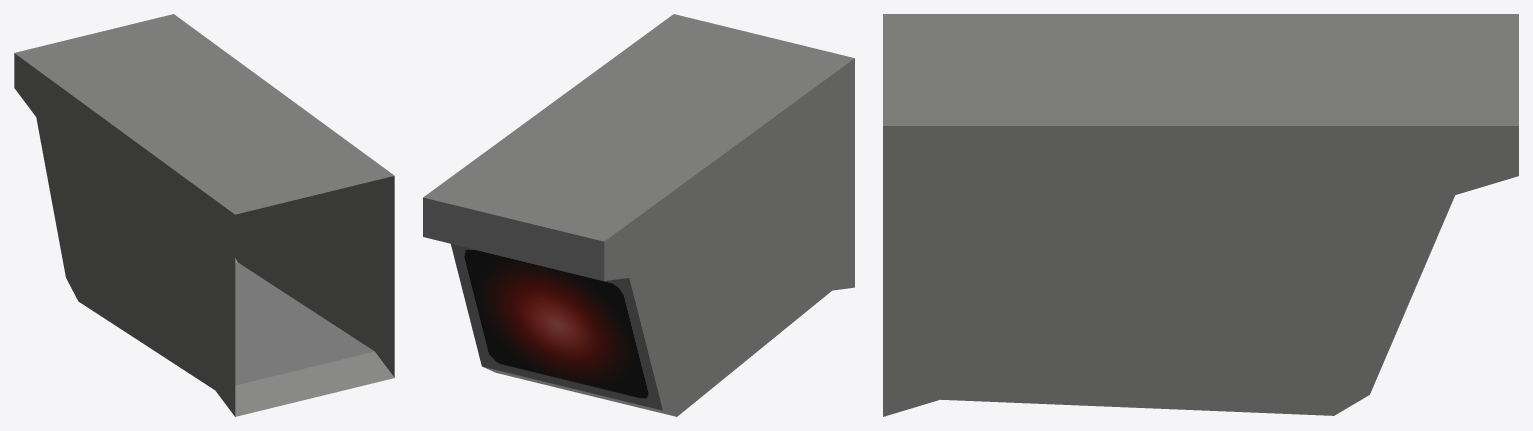
The model's file is CAM.fbx.
3 renders of one model, left to right at view 1: azimuth 30°, elevation 25°; view 2: azimuth 150°, elevation 25°; view 3: azimuth 270°, elevation 25°, orthographic. The views are drawn at different scales.
Visible parts, largest first — view 1: CAM; view 2: CAM; view 3: CAM.
Part boxes in pixels (<box>): CAM: <box>14,14,394,416</box>; CAM: <box>423,14,854,416</box>; CAM: <box>883,14,1518,416</box>.
Size of the model in its own units: 0.3238 by 0.392 by 0.7764.
